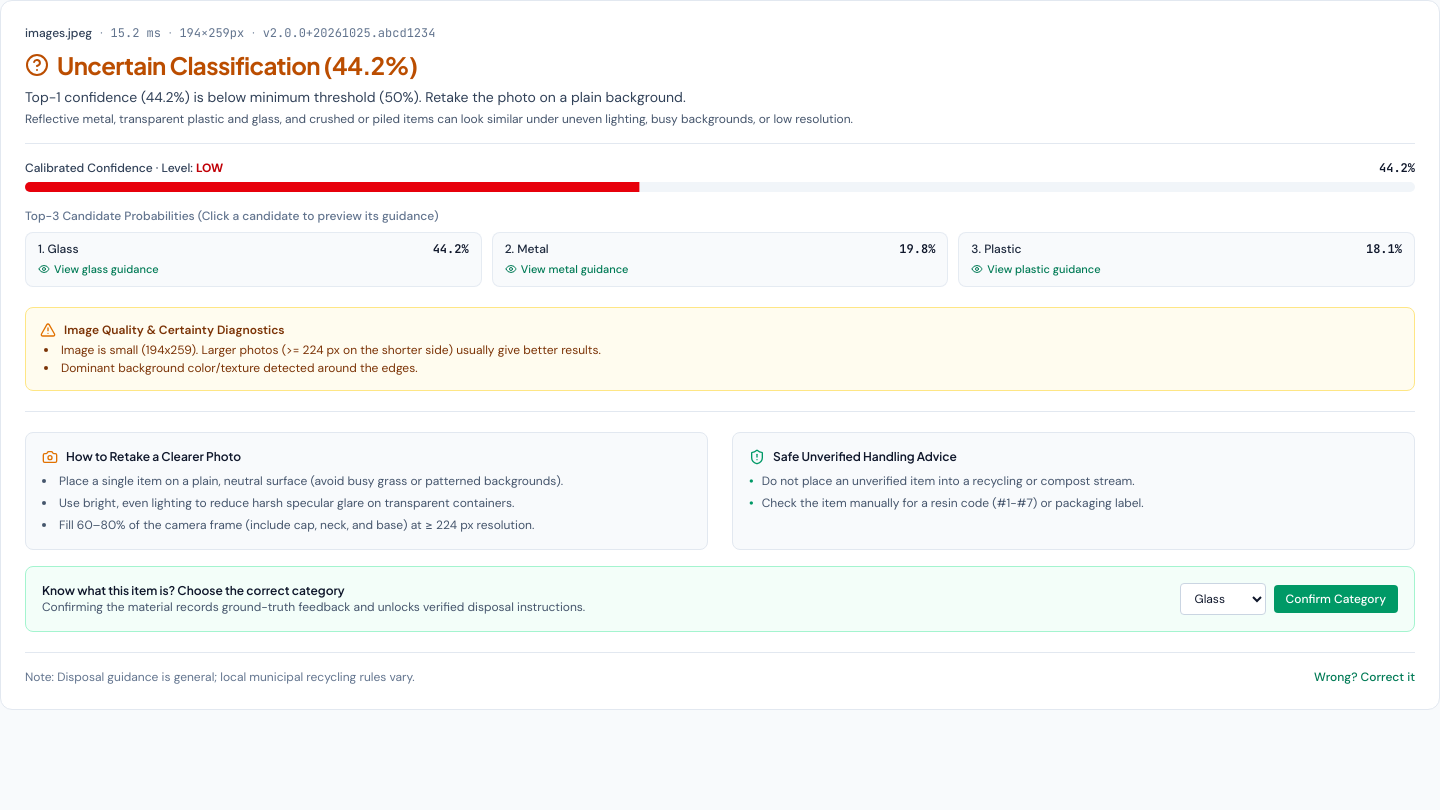
EcoSort ML Frontend Unit & Component Tests › allows previewing a candidate category guidance with explicit non-AI warning banner when uncertain
Click the button with test id "candidate-preview-btn-plastic" at coordinates (1003, 249), box [958, 232, 1415, 286]
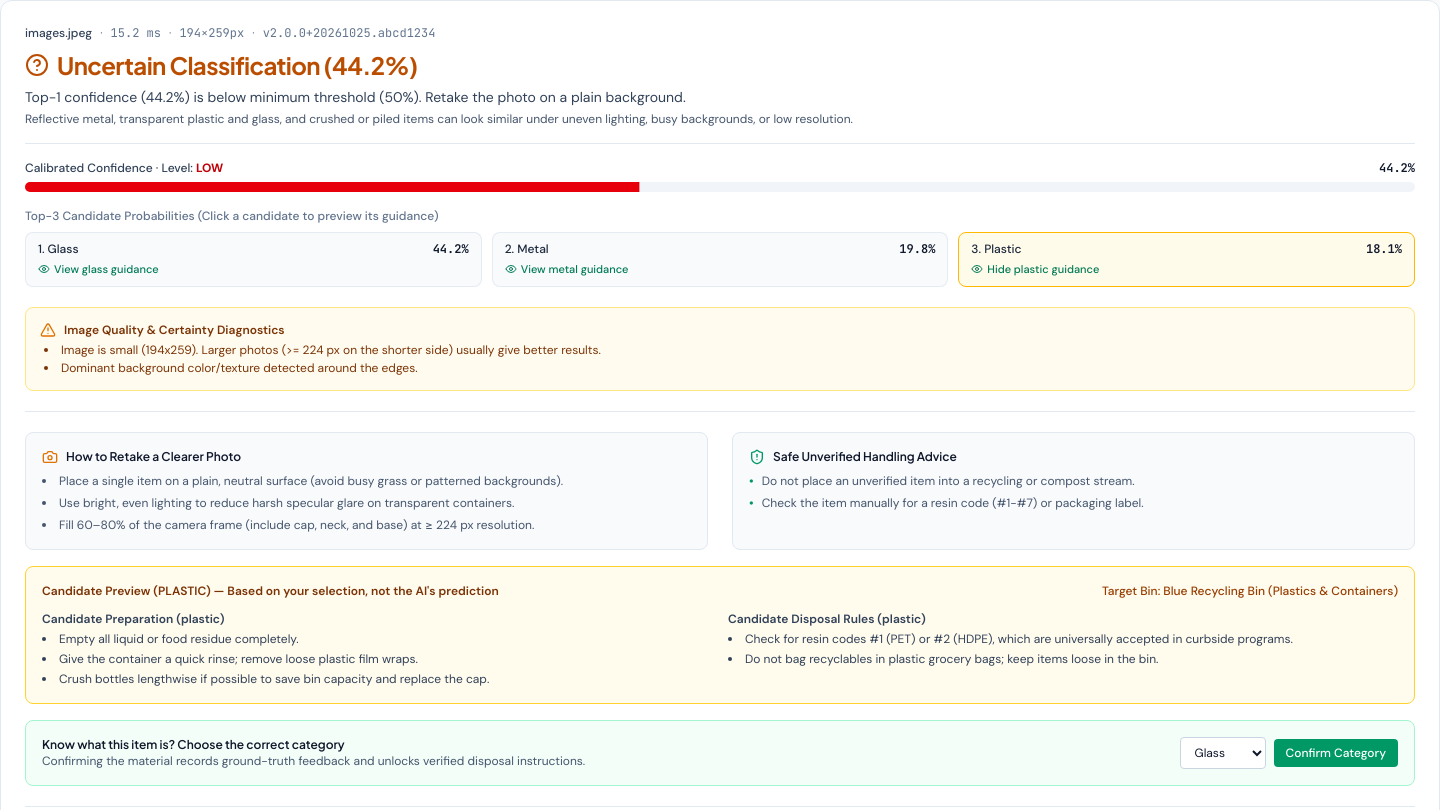
expect the element with test id "candidate-guidance-preview" shows "Candidate Preview (PLASTIC) — Based on your selection, not the AI's prediction": met, box [25, 566, 1415, 704]
expect the element with test id "candidate-guidance-preview" shows "Check for resin codes #1 (PET)": met, box [745, 630, 1293, 646]
// Clicking again hides the preview
Click the button with test id "candidate-preview-btn-plastic" at coordinates (1003, 249), box [958, 232, 1415, 286]
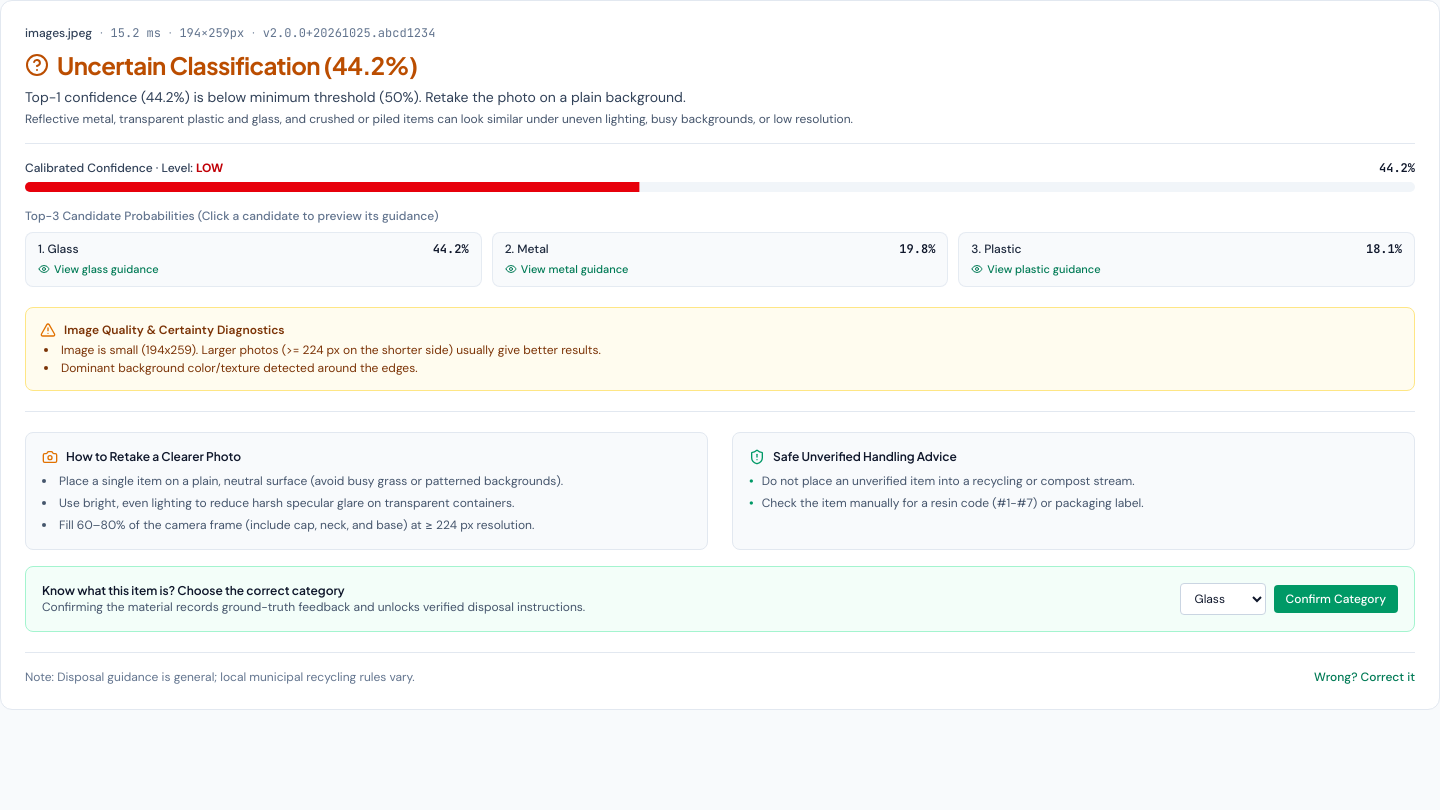
expect the element with test id "candidate-guidance-preview" is gone: met
